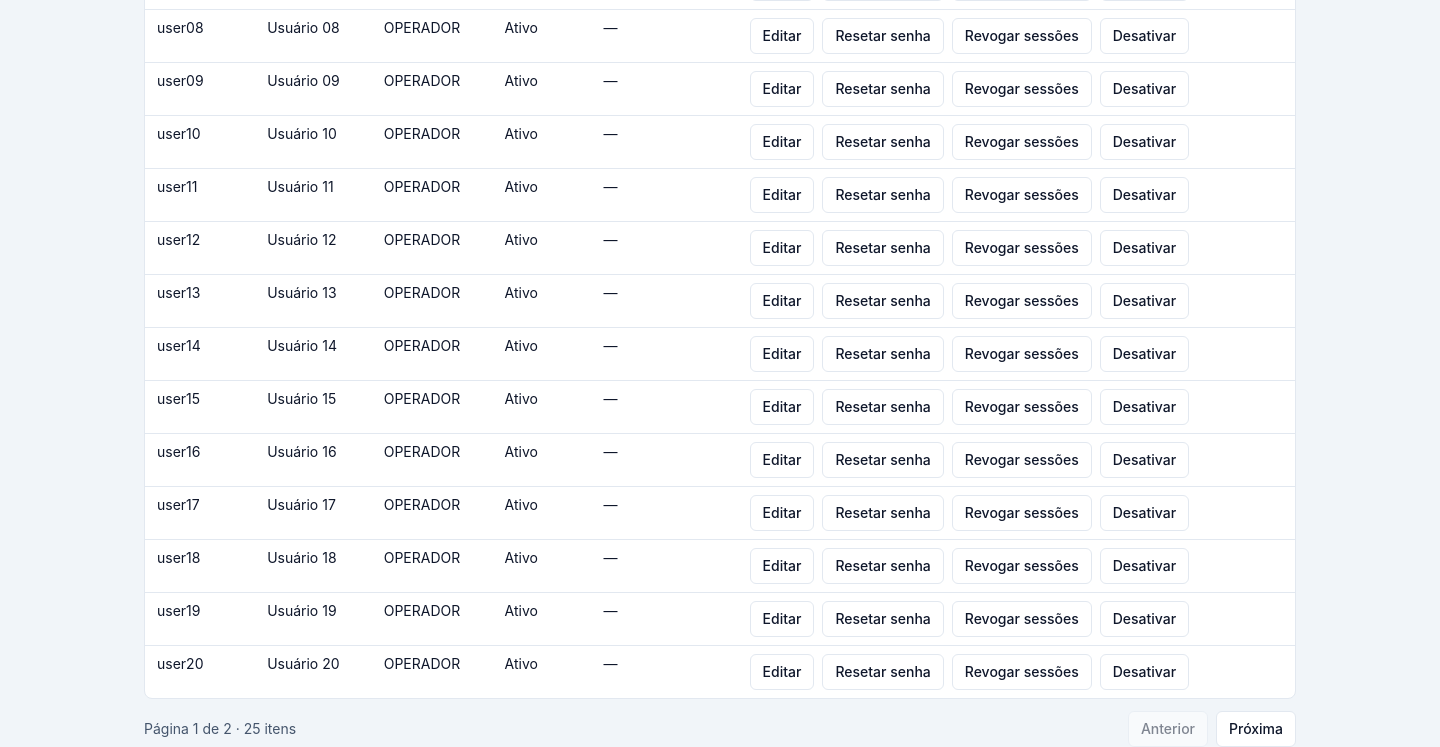
UsersPage — lista › pede a próxima página ao servidor
This screenshot has width=1440, height=747.
(page scrolled)
Expected: the cell "user21" is not shown
Click the button with aria-label "Próxima página".
click(1256, 729)  # box [1216,711,1296,746]
(page scrolled)
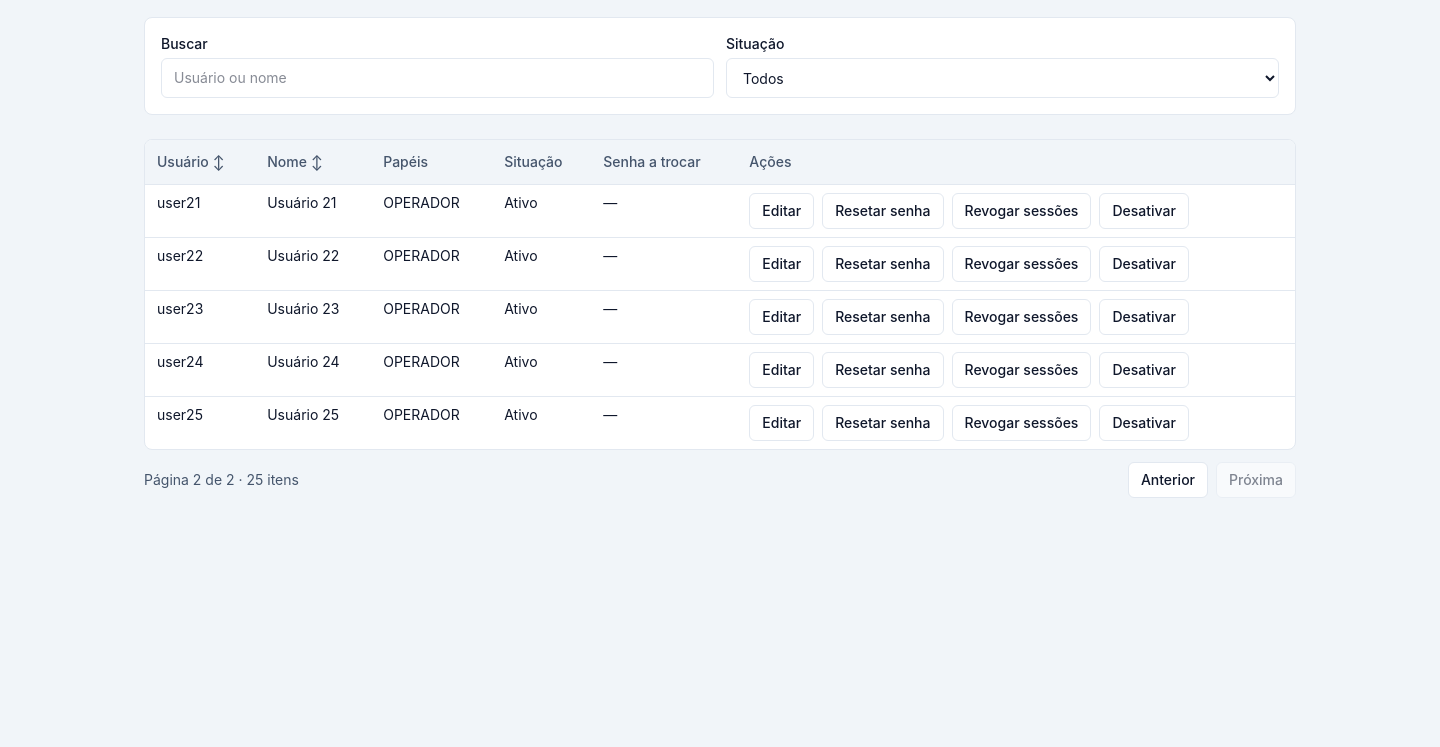
Expected: the cell "user21" is shown, [145,184,255,238]
Expected: the text "Página 2 de 2 · 25 itens" is shown, [144,470,299,490]
